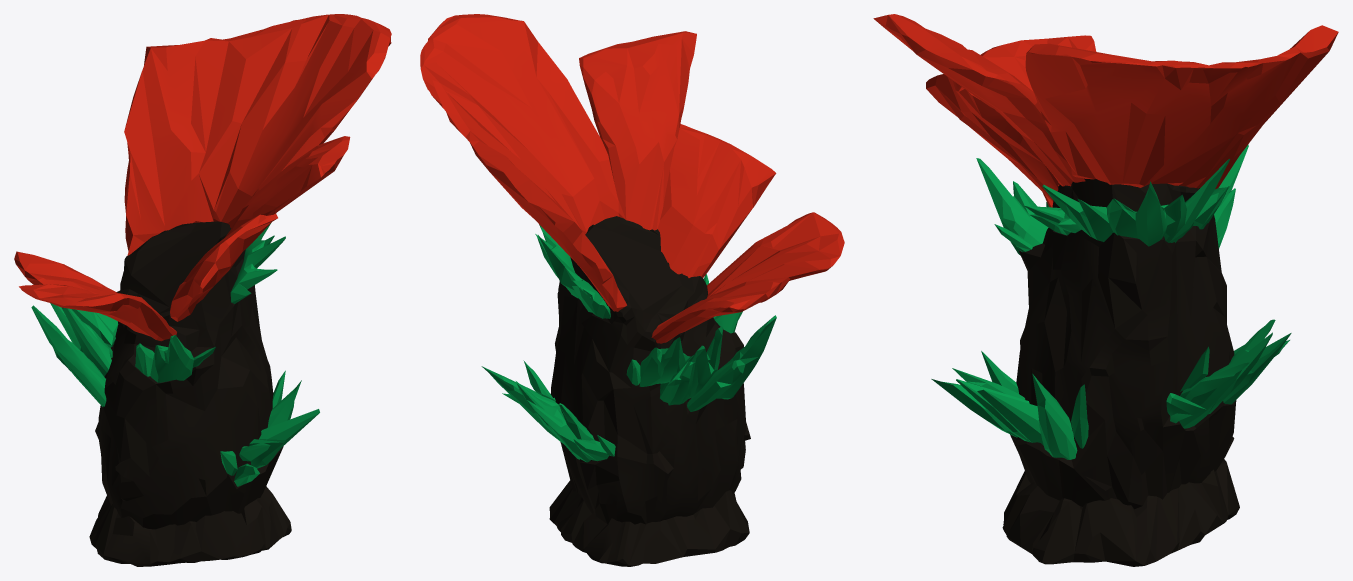
The model's file is MF_Thicktree.FBX.
The picture shows the model from 3 angles, left to right: view 1: azimuth 30°, elevation 25°; view 2: azimuth 150°, elevation 25°; view 3: azimuth 270°, elevation 25°; orthographic projection. The views are drawn at different scales.
Visible parts, largest first — view 1: Thicktree; view 2: Thicktree; view 3: Thicktree.
Boxes of the visible parts, <box> form: Thicktree: <box>14,14,391,566</box>; Thicktree: <box>420,14,844,566</box>; Thicktree: <box>873,14,1338,566</box>.
Size of the model in its own units: 6.21 by 5.26 by 7.23.
